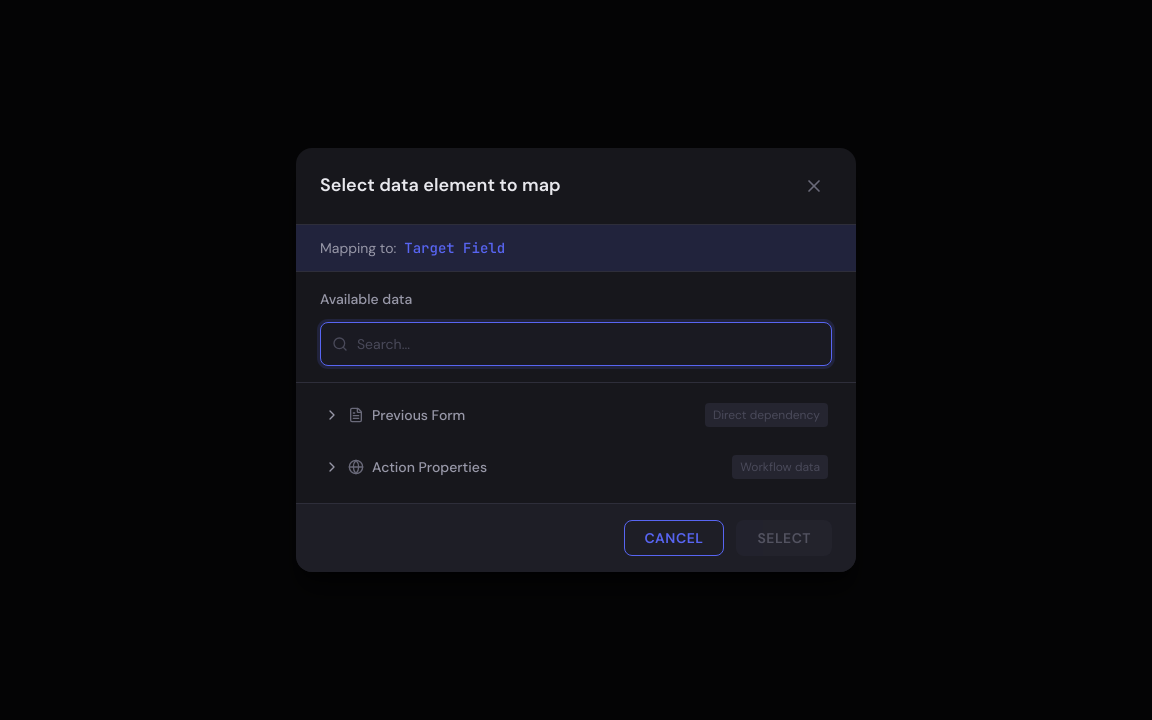
Scenario: DataSourceModal › group expansion › can expand multiple groups
Click the button "Previous Form Direct dependency": click(419, 415) x1=312 y1=391 x2=840 y2=439
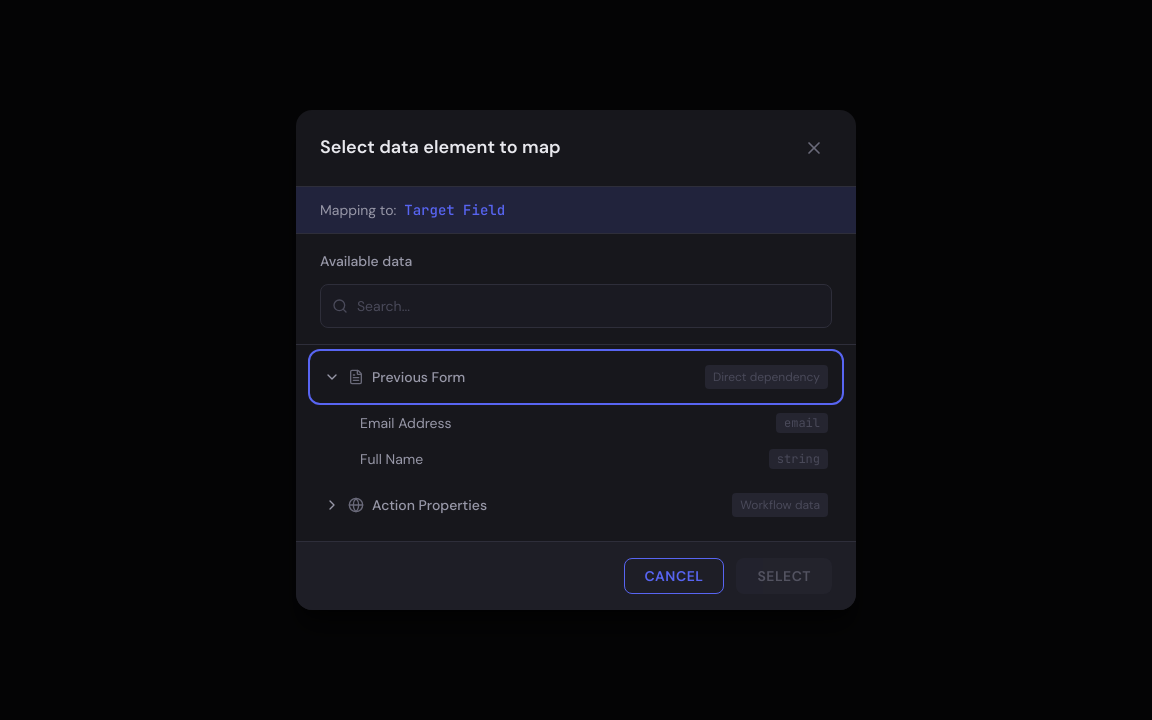
Click the button "Action Properties Workflow data": click(430, 505) x1=312 y1=481 x2=840 y2=529
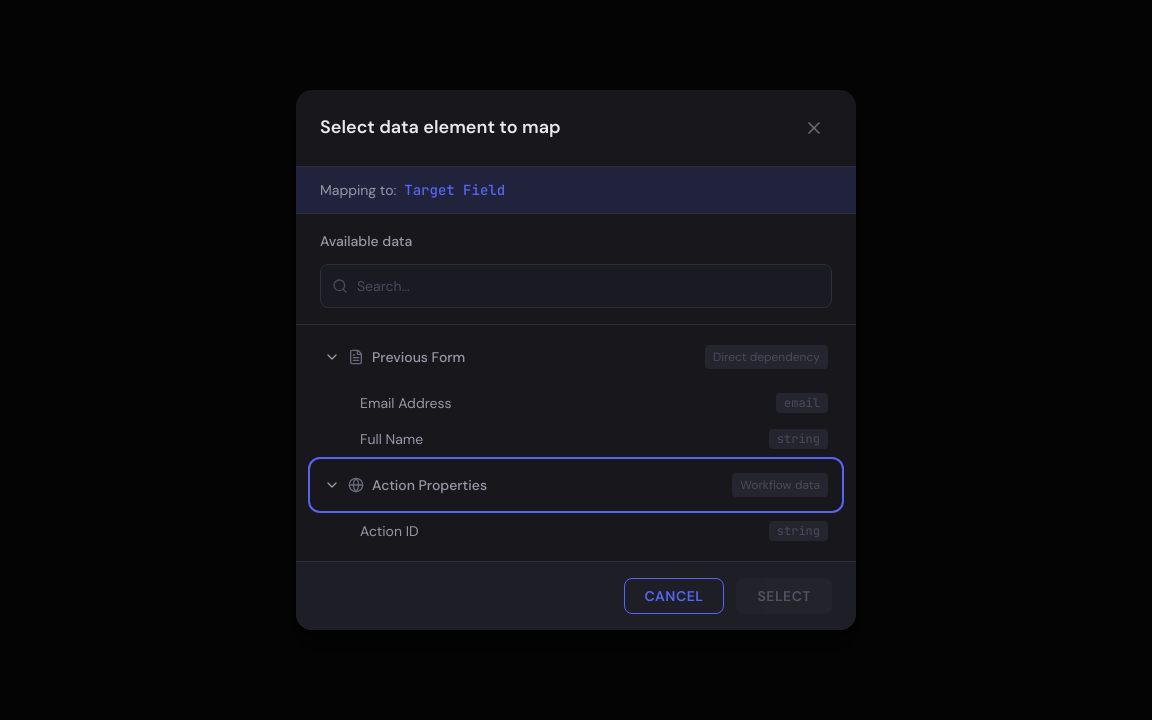
Expected: the text "Email Address" is shown, x1=360 y1=394 x2=452 y2=412
Expected: the text "Action ID" is shown, x1=360 y1=522 x2=419 y2=540
